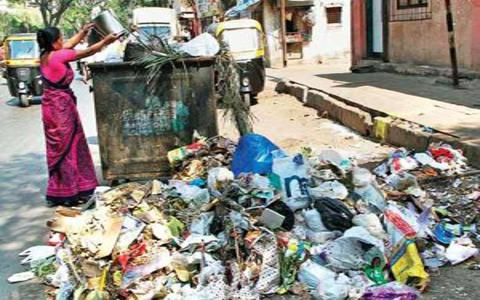overflowing garbage: (87, 50, 313, 272)
